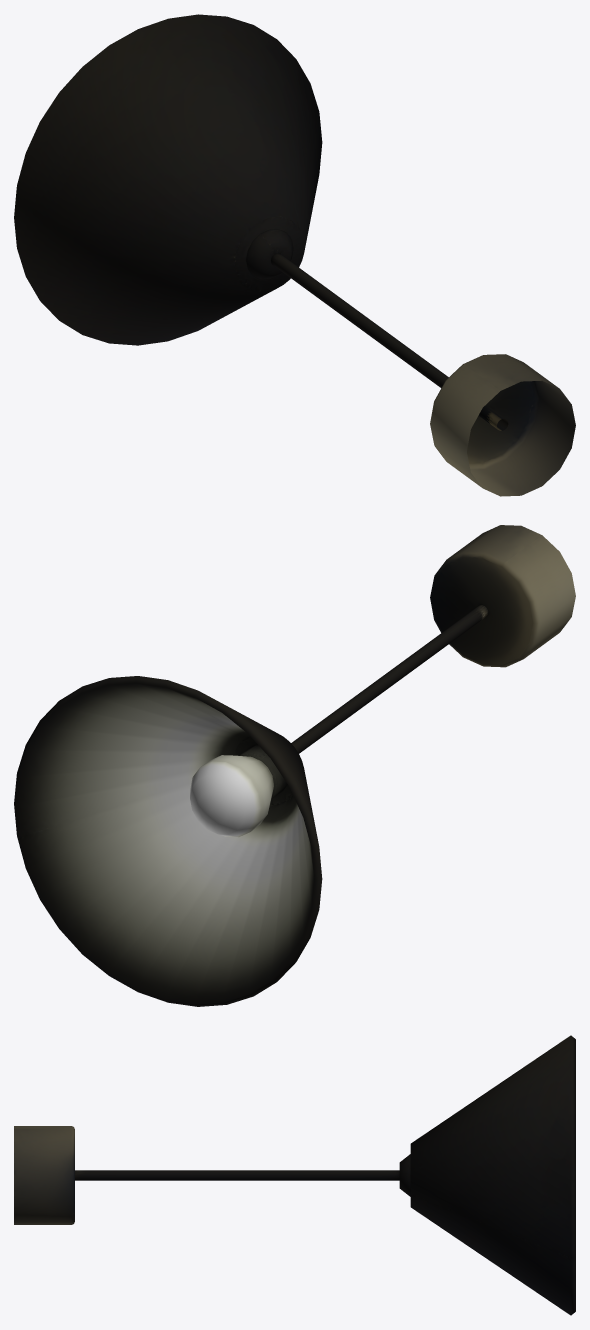
File: CeilingLamp.obj
3 views of the same model, one above another, from view 1: azimuth 30°, elevation 25°; view 2: azimuth 150°, elevation 25°; view 3: azimuth 270°, elevation 25° (orthographic). The views are drawn at different scales.
Bounding box in the file's own units: 0.464 × 0.464 × 0.9293.
Materials: 1 (1 with a texture image).
